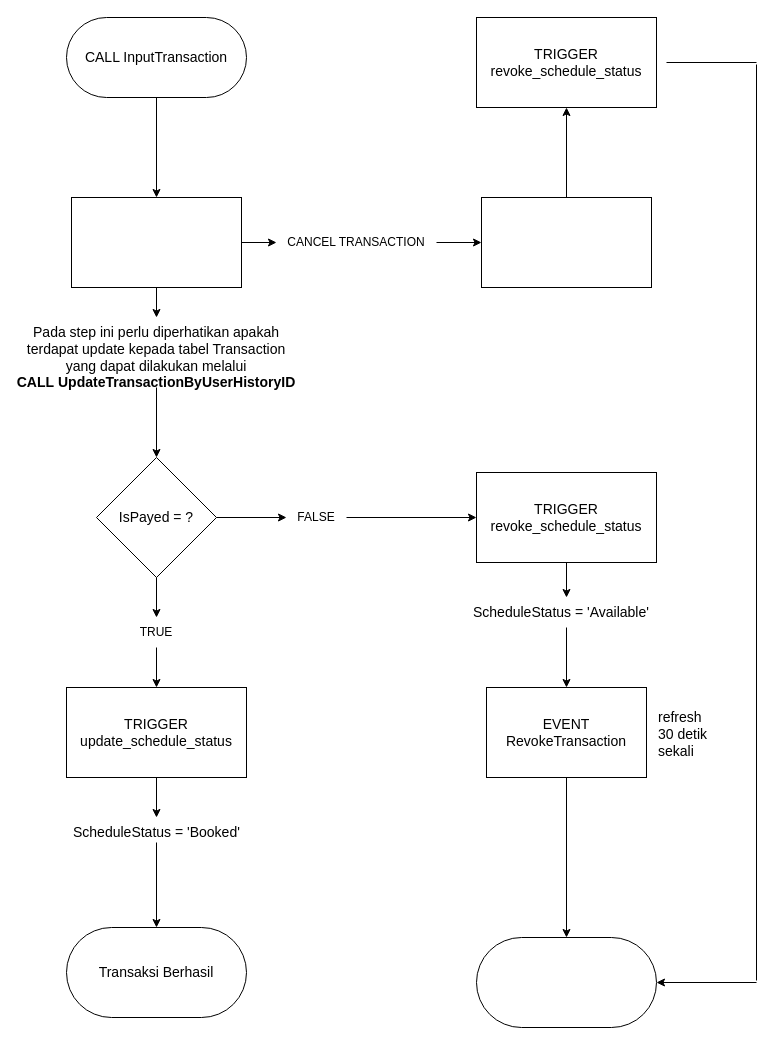
Image size: 782x1045. Some labels were removed from this diagram. Here are the shapes that lost their labels. From the top down, the centre of each, then its label:
At point 156,242: "User diberi waktu sebanyak 5 menit".
At point 566,242: "DELETE UserHistory".
At point 566,982: "Transaksi Gagal".
